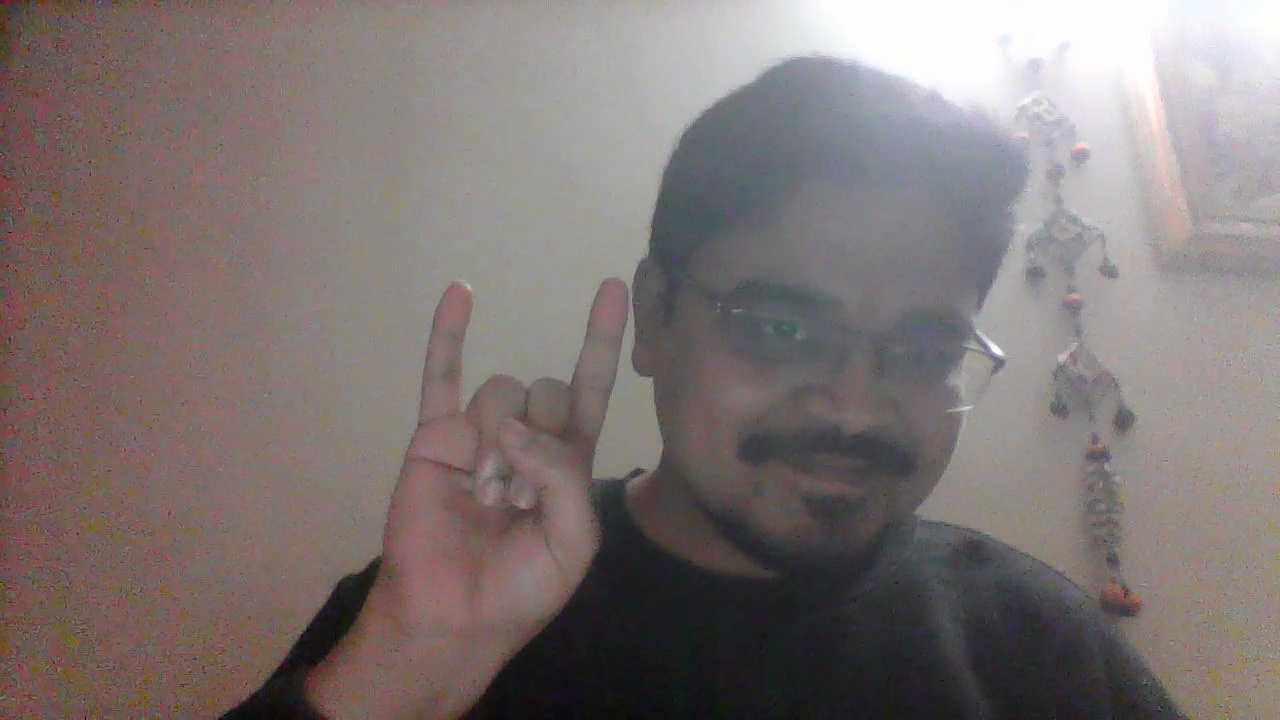ILoveYou: (371, 272, 630, 676)
